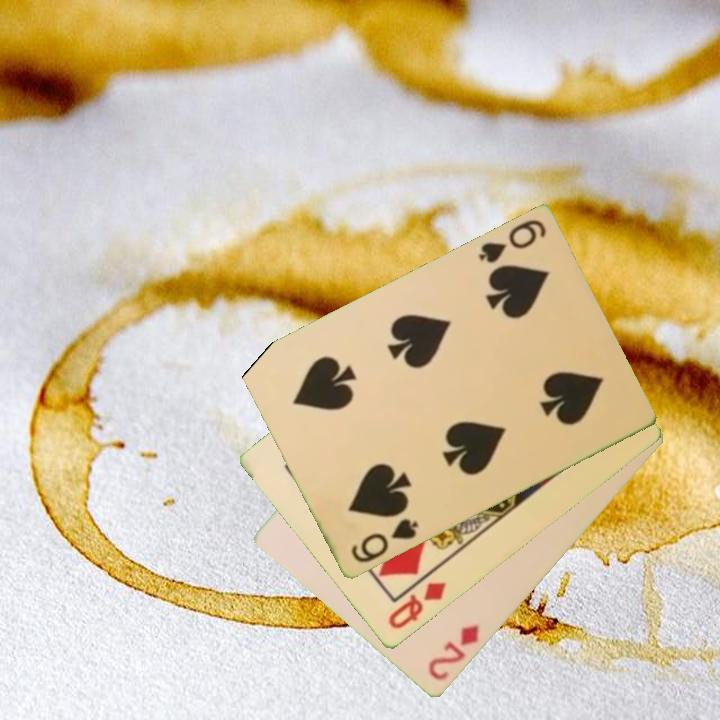2d: (424, 621, 482, 684)
6s: (347, 515, 422, 567), (475, 216, 549, 267)
Qd: (384, 578, 449, 633)
